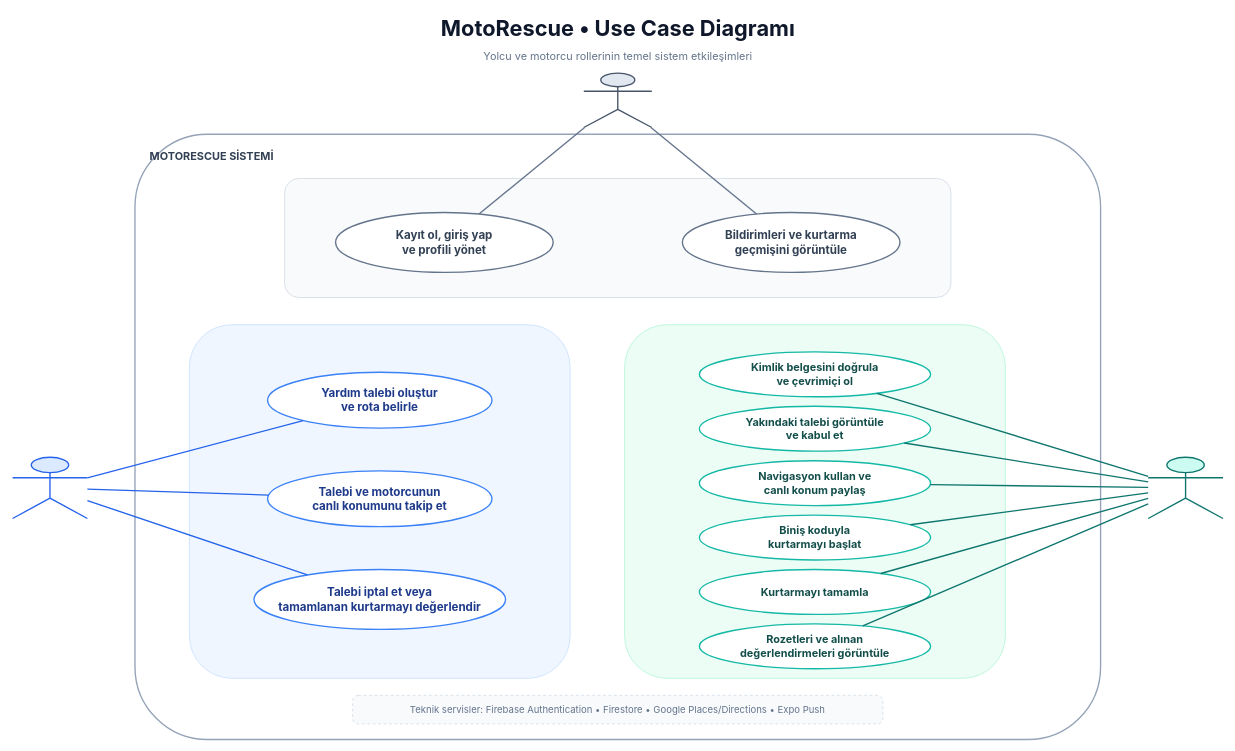
This 1235x751 diagram has some shape labels left out. Each missing label, with the box of its shape:
Kullanıcı: (583, 72, 652, 128)
Motorcu: (1147, 456, 1223, 519)
MOTORCU İŞLEMLERİ: (624, 324, 1005, 678)
ORTAK İŞLEMLER: (284, 178, 951, 298)
Yolcu: (12, 456, 88, 519)
YOLCU İŞLEMLERİ: (189, 324, 570, 678)
